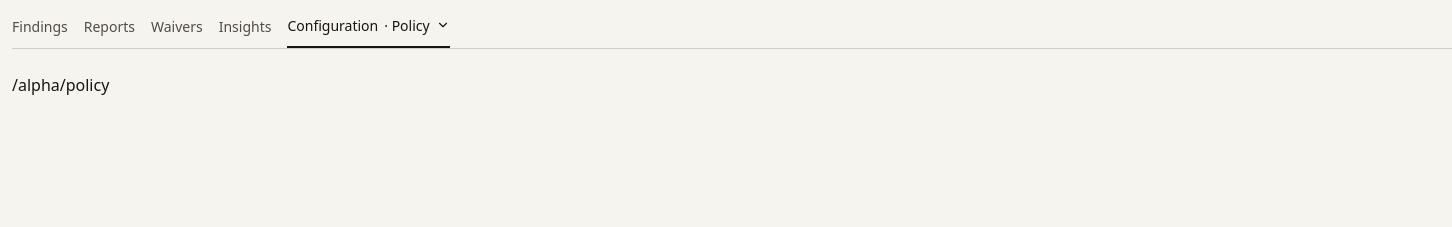
project navigation › keeps the active policy page discoverable with the menu closed
This screenshot has width=1452, height=227.
Expected: the button "Configuration" does not show "Configuration"
Click the button "Configuration · Policy". click: (369, 30)
box: top-left (287, 12), bottom-right (450, 48)
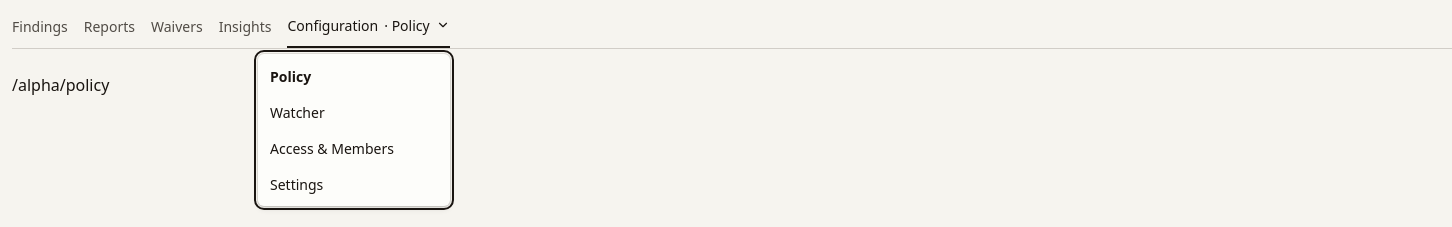
Expected: the menu is shown, top-left (258, 54), bottom-right (450, 206)
